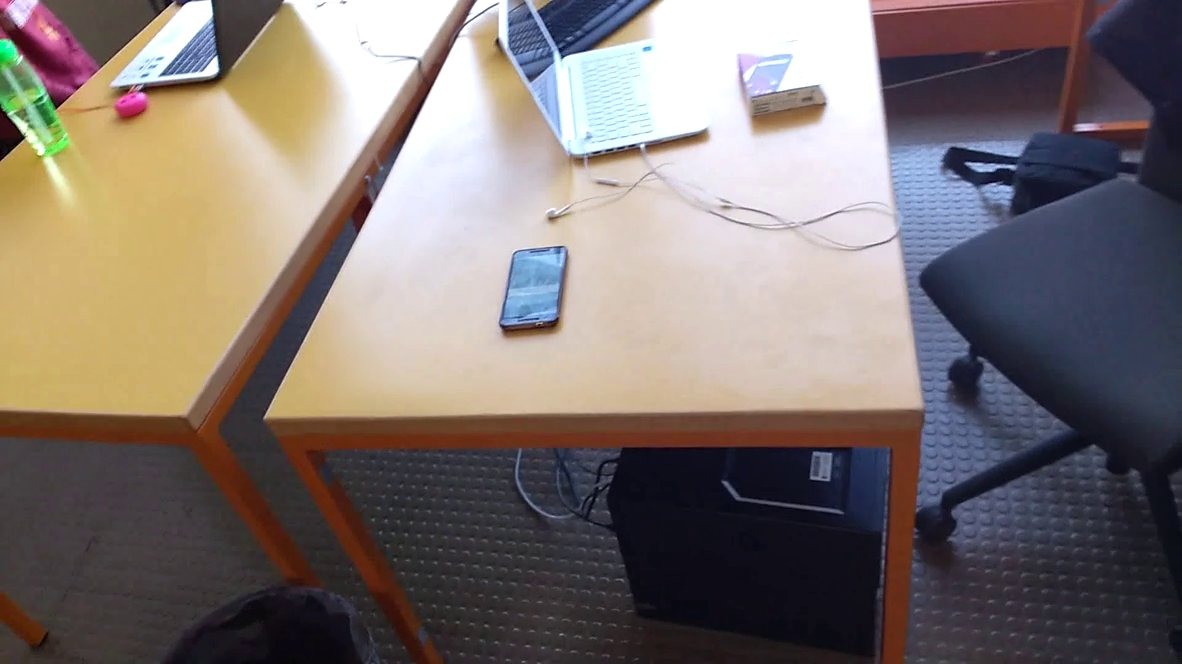laptop: (488, 1, 735, 173)
phone: (493, 241, 574, 342)
